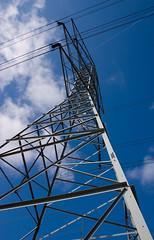power_tower: (0, 18, 154, 240)
